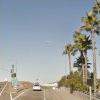Palm tree: (58, 15, 100, 100)
